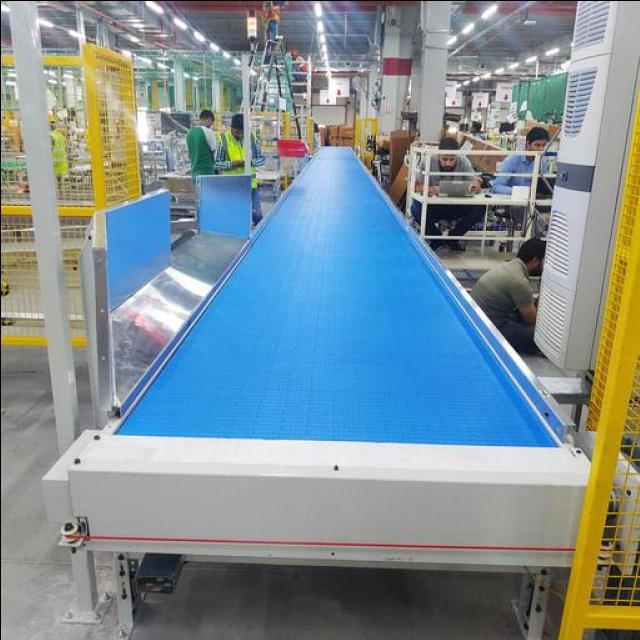conveyor: (105, 143, 569, 445)
